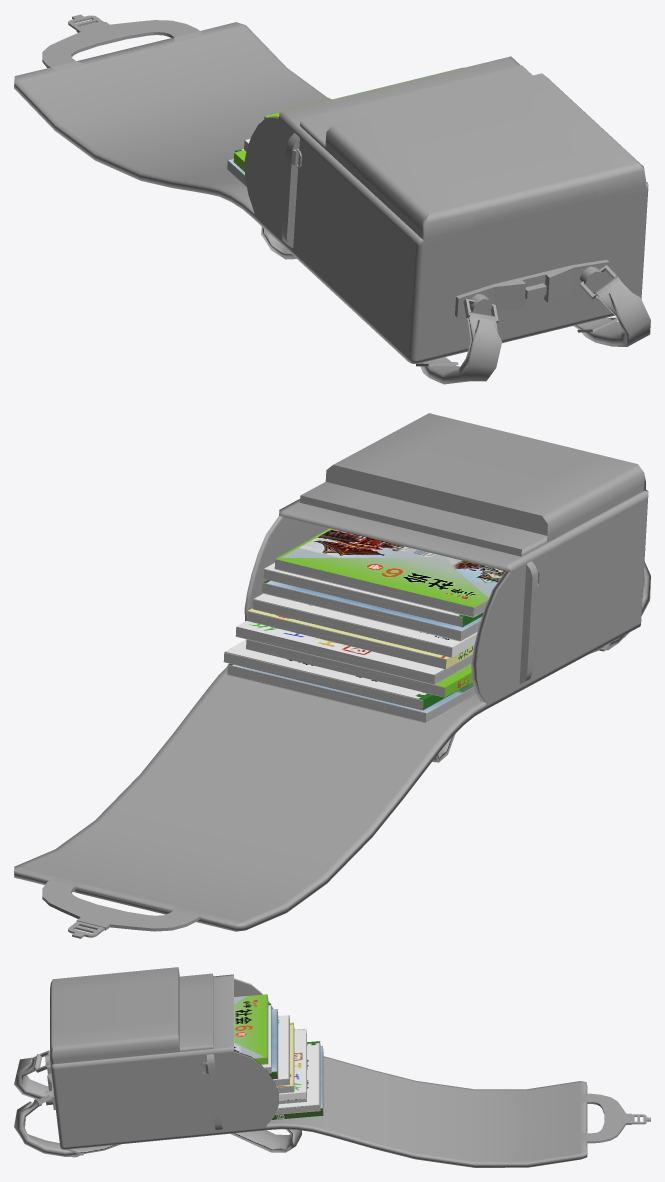
Rendered from SchoolBag.fbx.
3 views of the same model, one above another, from view 1: azimuth 30°, elevation 25°; view 2: azimuth 150°, elevation 25°; view 3: azimuth 270°, elevation 25° (orthographic). The views are drawn at different scales.
Parts seen in each view (by area): view 1: SchoolBag, TextBook; view 2: SchoolBag, TextBook; view 3: SchoolBag, TextBook.
Part boxes in pixels (x1,y1,x2,y2): SchoolBag: (14,14,650,384); TextBook: (227,67,463,186); SchoolBag: (14,413,650,938); TextBook: (223,528,505,723); SchoolBag: (14,967,650,1167); TextBook: (234,994,323,1119).
Size of the model in its own units: 25.97 by 20.13 by 89.06.
